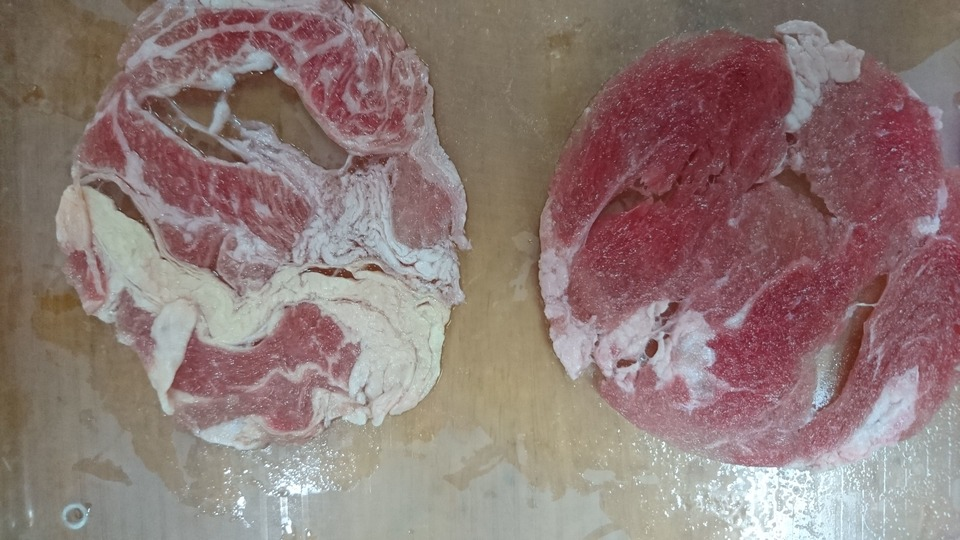restructured meat: (532, 32, 960, 468), (54, 22, 456, 439)
